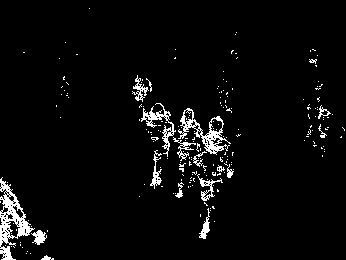person: (194, 114, 234, 241), (1, 172, 46, 260), (173, 105, 203, 200), (144, 103, 174, 192), (129, 71, 152, 123)
